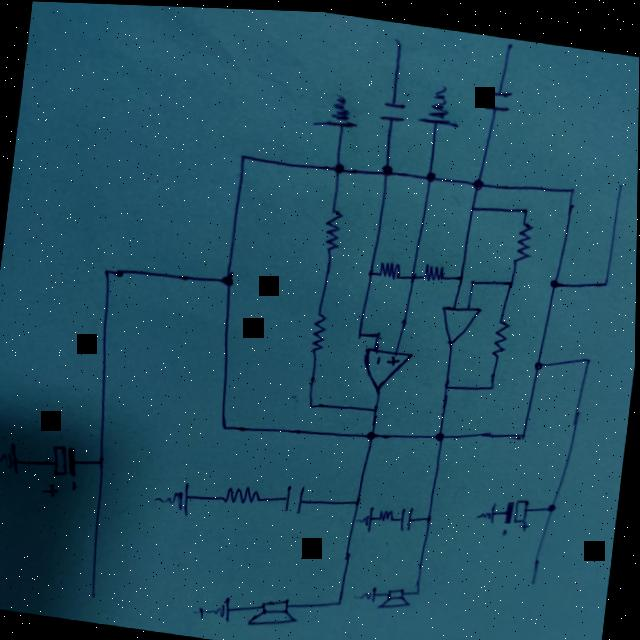capacitor: (43, 442, 85, 499), (502, 491, 533, 534), (480, 82, 514, 112), (381, 92, 409, 122), (283, 479, 309, 511), (399, 501, 418, 529)
ground: (422, 79, 464, 124), (318, 88, 364, 128), (158, 477, 197, 514), (197, 591, 236, 620), (0, 438, 26, 474), (356, 499, 382, 533), (476, 493, 501, 520), (354, 578, 380, 601)
junction: (379, 156, 399, 177), (471, 168, 489, 191), (330, 156, 352, 174), (422, 164, 440, 183), (99, 261, 118, 279), (221, 270, 240, 287), (548, 271, 566, 288), (236, 146, 252, 162), (534, 351, 549, 367), (434, 424, 449, 440), (96, 452, 110, 469), (364, 424, 380, 438), (219, 416, 235, 430), (306, 393, 322, 407), (466, 197, 481, 211), (565, 177, 580, 191), (505, 271, 519, 285), (517, 199, 531, 213), (353, 492, 366, 506), (546, 496, 561, 508), (517, 424, 530, 437), (599, 271, 612, 284), (441, 376, 454, 388), (486, 376, 499, 388), (469, 271, 481, 284), (334, 593, 347, 605), (365, 264, 379, 275), (408, 267, 420, 279), (455, 268, 468, 279), (582, 349, 595, 360), (425, 508, 436, 520), (369, 400, 381, 411), (355, 325, 366, 337), (374, 325, 385, 336), (413, 582, 425, 592)
resistor: (513, 212, 539, 261), (323, 203, 347, 250), (223, 479, 265, 504), (310, 306, 333, 350), (492, 313, 514, 355), (378, 254, 406, 277), (376, 501, 402, 524), (423, 256, 448, 279)
terminal: (391, 29, 407, 47), (504, 34, 517, 48), (89, 586, 102, 600), (529, 570, 540, 582), (617, 174, 627, 187)
